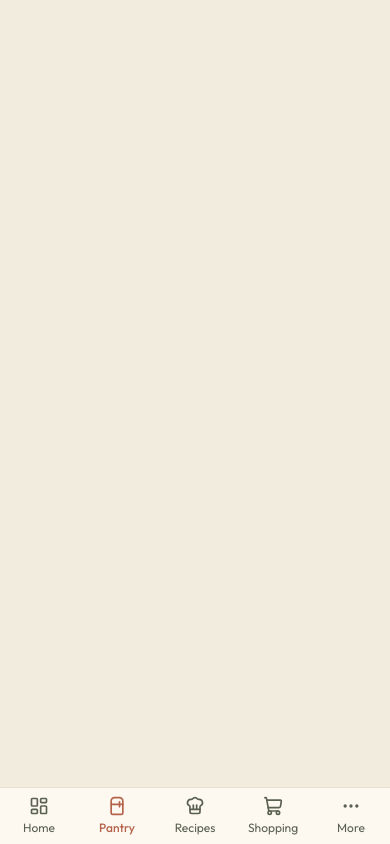
MobileNav › opens partner invitations from More
Click the button "More".
click(351, 816)  # box [312,788,389,843]
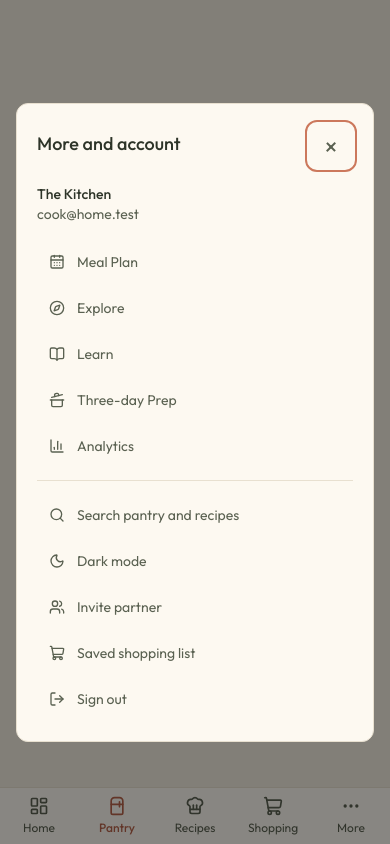
Click the button "Invite partner".
click(120, 606)  # box [37,584,353,628]
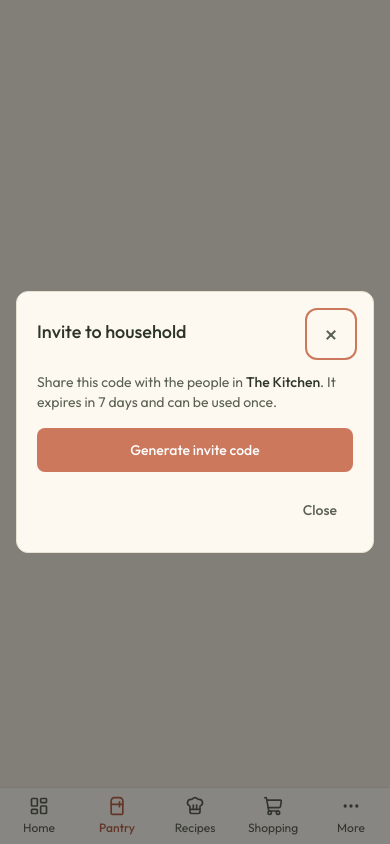
Check: the dialog "Invite to household" is shown
